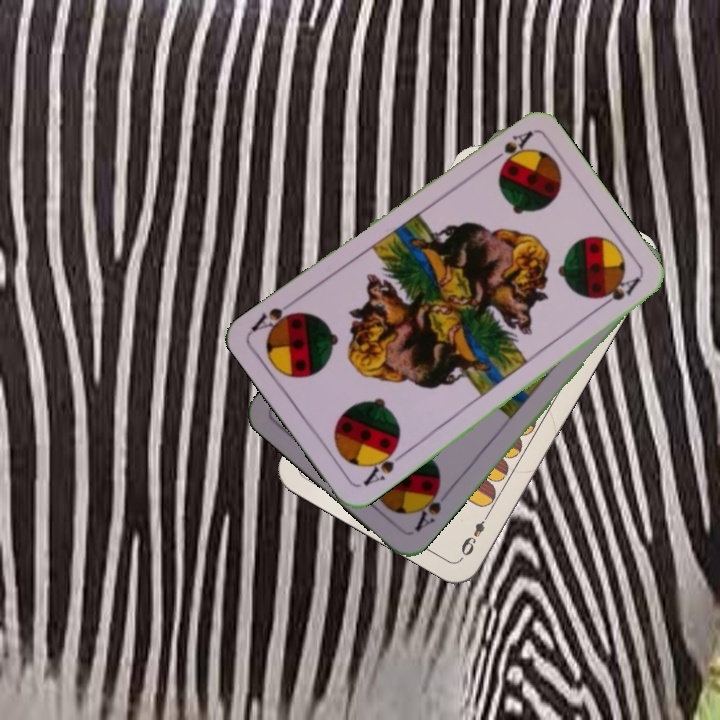E9: (456, 507, 493, 559)
SA: (410, 480, 453, 535), (359, 441, 408, 489), (483, 127, 536, 170)
